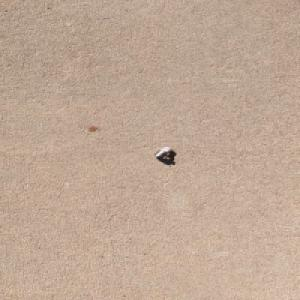MetalPart: (153, 146, 174, 161)
